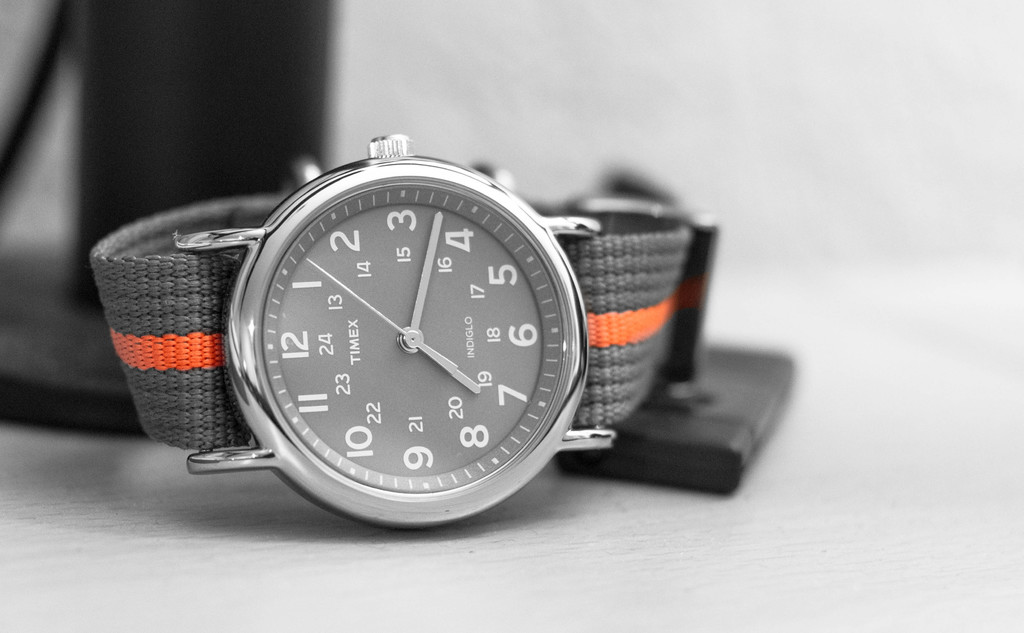watch: (88, 133, 721, 533)
